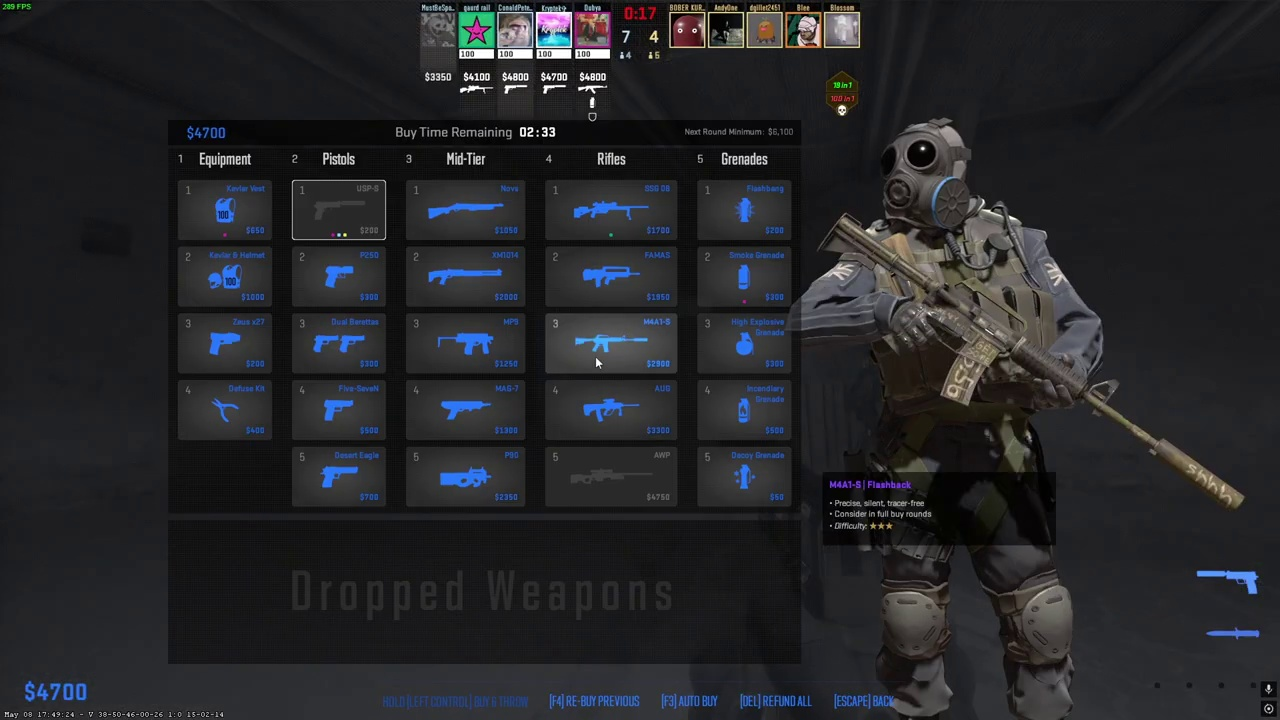CT: (850, 121, 1091, 720)
